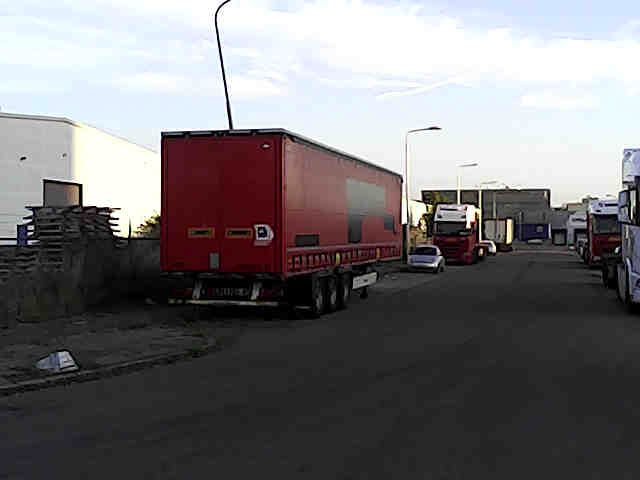container: (161, 130, 401, 276)
